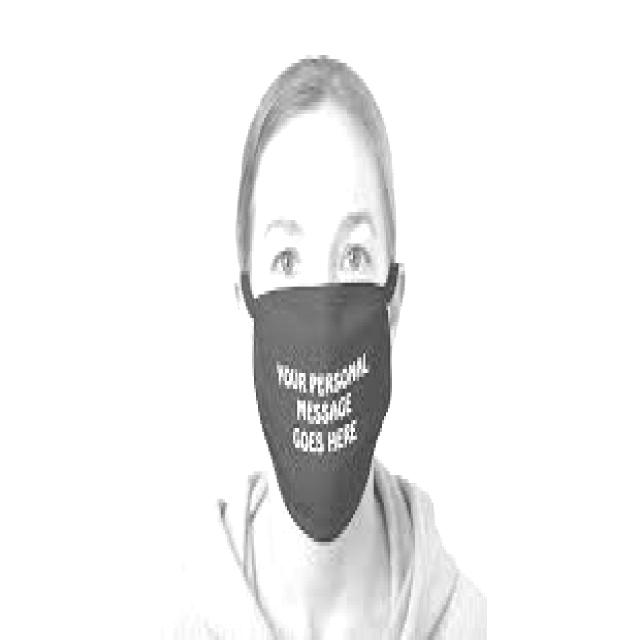fake: (234, 250, 416, 555)
real: (241, 108, 414, 554)
